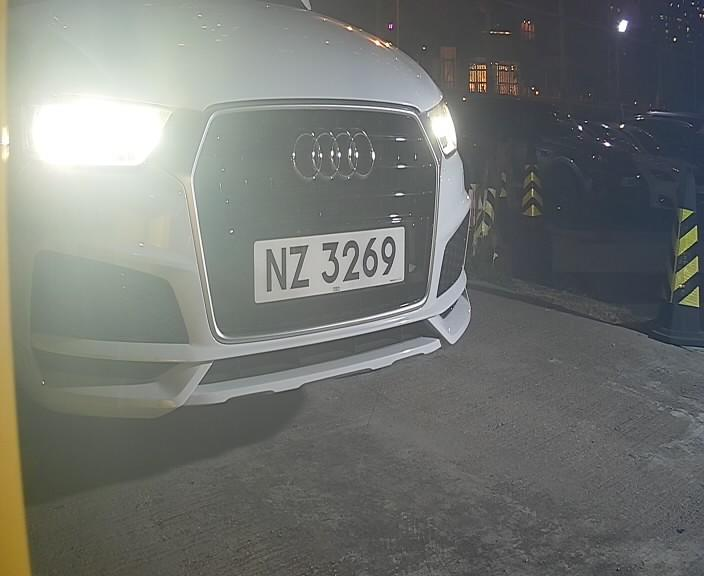Car: (7, 6, 525, 461)
License Plate: (249, 217, 415, 309)
